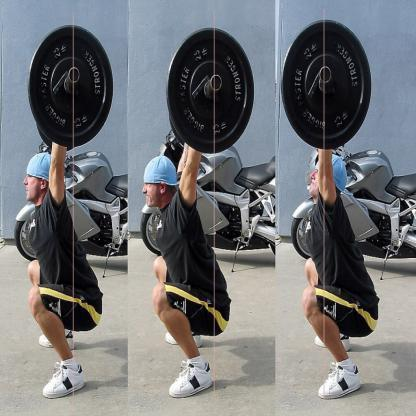barbell: (282, 19, 372, 150), (166, 25, 254, 156), (28, 27, 112, 146)
